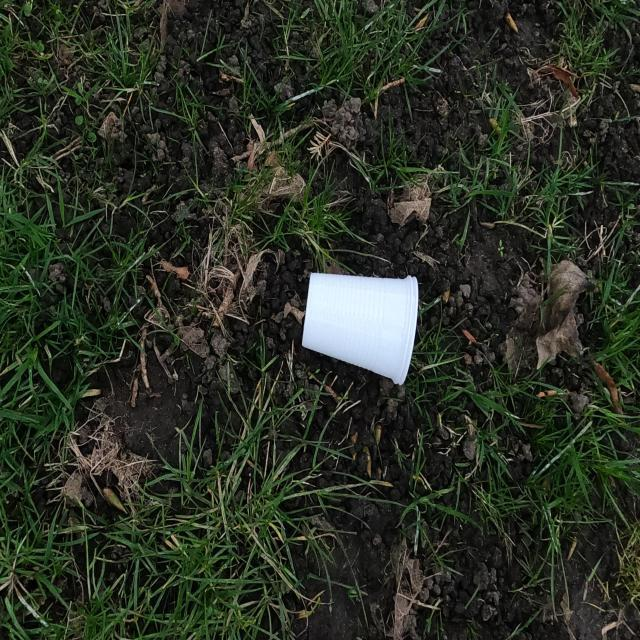Cup: (300, 270, 420, 390)
